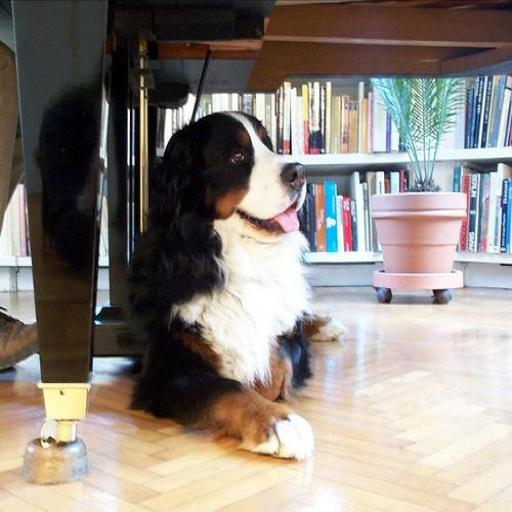dog_face: (169, 105, 310, 242)
